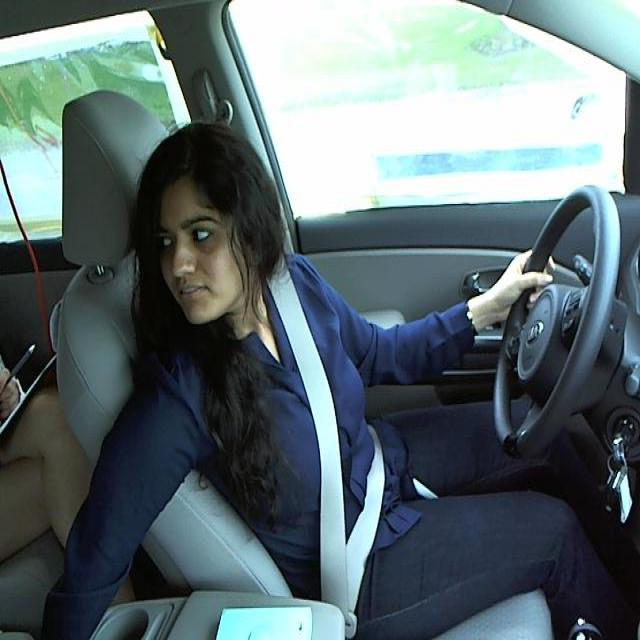seatbelt: (266, 281, 401, 596)
